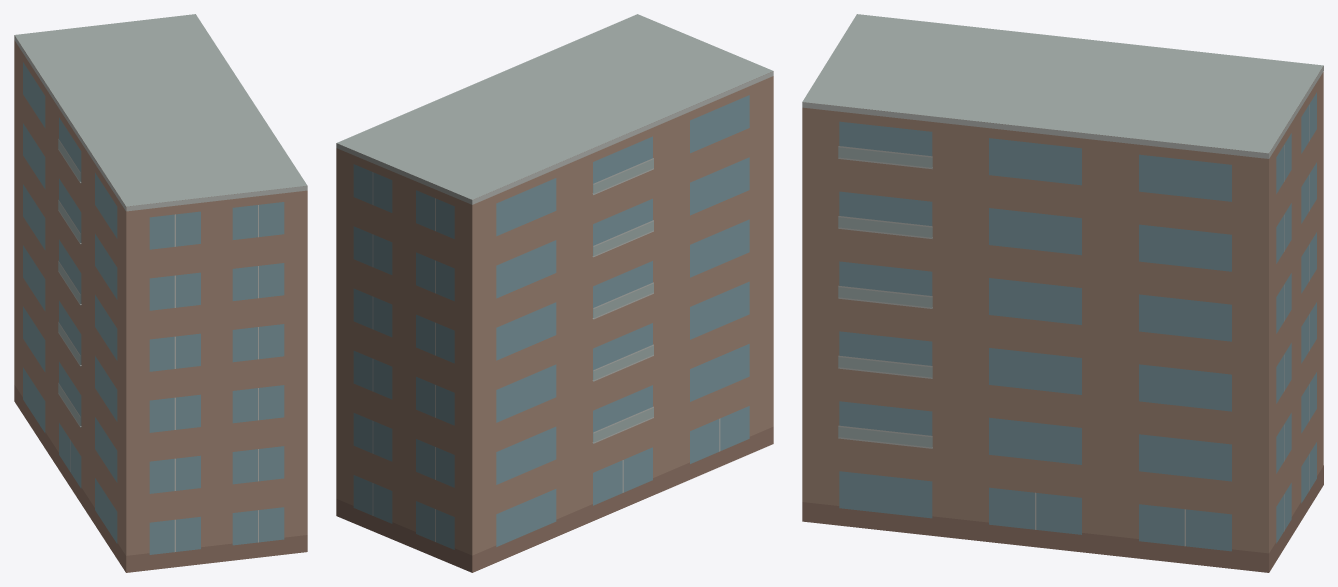
Rendered from survey-upis-32663474.glb.
3 renders of one model, left to right at view 1: azimuth 30°, elevation 25°; view 2: azimuth 150°, elevation 25°; view 3: azimuth 270°, elevation 25°, orthographic. The views are drawn at different scales.
Parts seen in each view (by area): view 1: survey-upis-32663474.tmp; view 2: survey-upis-32663474.tmp; view 3: survey-upis-32663474.tmp.
Part boxes in pixels (x1,y1,x2,y2): survey-upis-32663474.tmp: [14, 14, 307, 572]; survey-upis-32663474.tmp: [336, 14, 773, 572]; survey-upis-32663474.tmp: [802, 14, 1323, 572].
Size of the model in its own units: 13.05 by 18.3 by 20.63.
